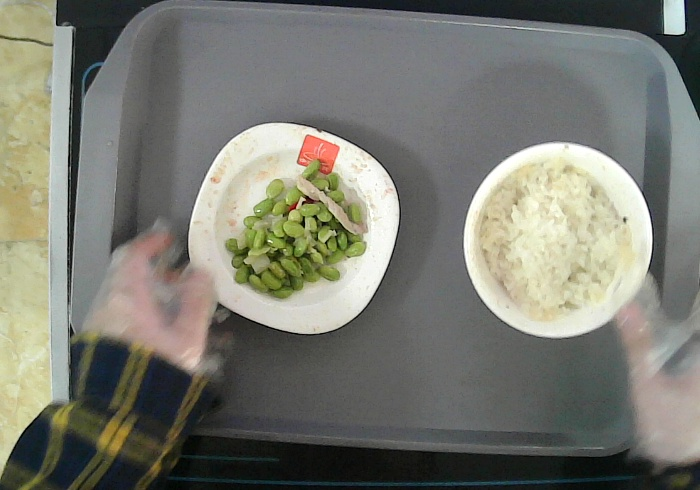SHKJ-Bai_Se_Si_Fang_Cai_Die: (186, 120, 403, 337)
SHKJ-Fan_Wan: (460, 139, 654, 340)
